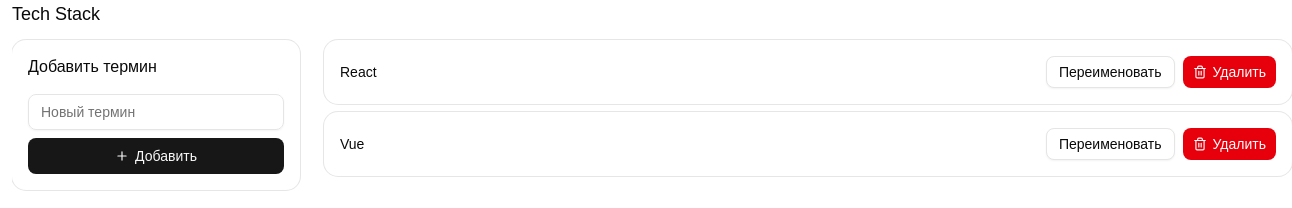
Test case: TaxonomyEditor rename no-op guard › stages a rename to an actually different value without saving immediately
The width and height of the screenshot is (1292, 208).
Expected: the text "React" is shown, [340,62,377,82]
Click the button "Переименовать" in the row of "React" at (1110, 72), box [1046,56,1174,88]
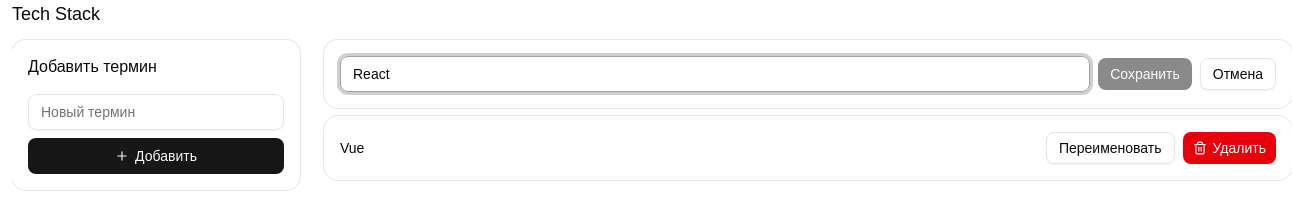
Replace the text in the field showing "React" with "React 19" at (715, 74), box [340,56,1090,92]
Then press Enter
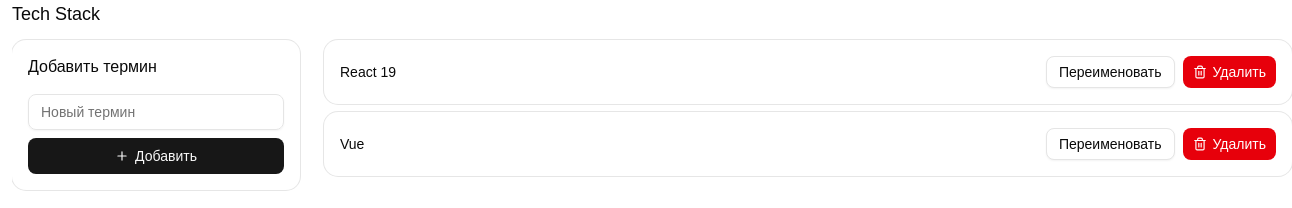
Expected: the text "React 19" is shown, [340,62,396,82]
